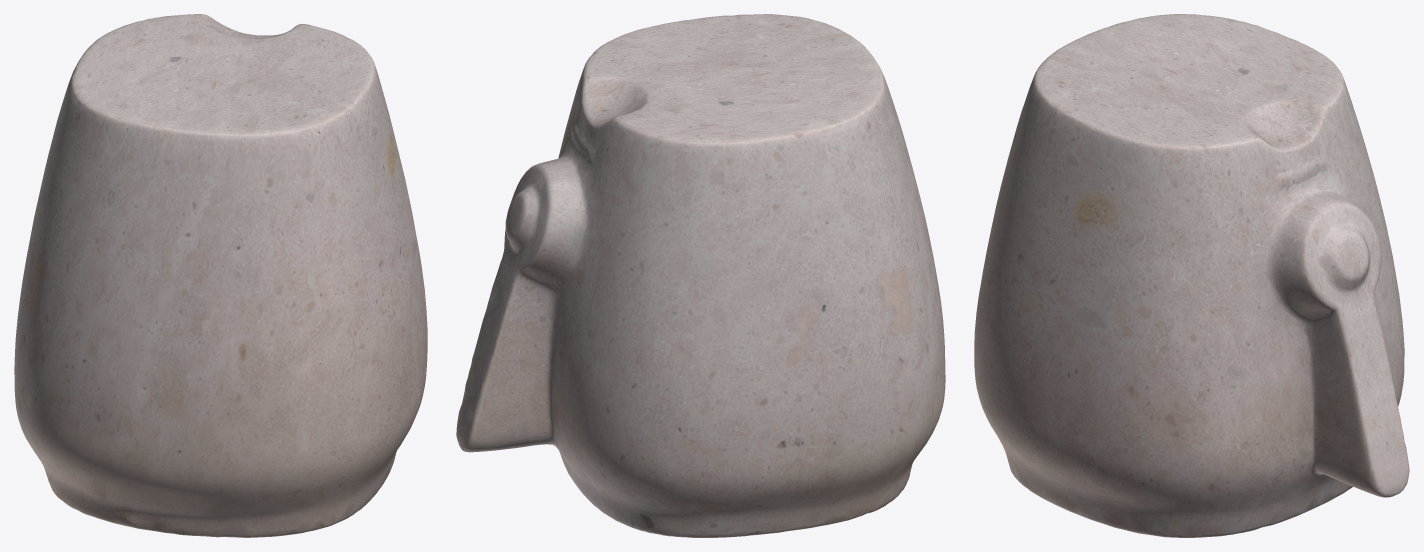
File: 14_testap.glb
3 views of the same model, side by side, from view 1: azimuth 30°, elevation 25°; view 2: azimuth 150°, elevation 25°; view 3: azimuth 270°, elevation 25° (orthographic).
Visible parts, largest first — view 1: Group20030; view 2: Group20030; view 3: Group20030.
Boxes of the visible parts, x1=… form: Group20030: x1=14, y1=14, x2=427, y2=537; Group20030: x1=456, y1=14, x2=945, y2=537; Group20030: x1=974, y1=14, x2=1409, y2=537.
Size of the model in its own units: 3.13 by 3.13 by 3.19.
Materials: 1 (1 with a texture image).
